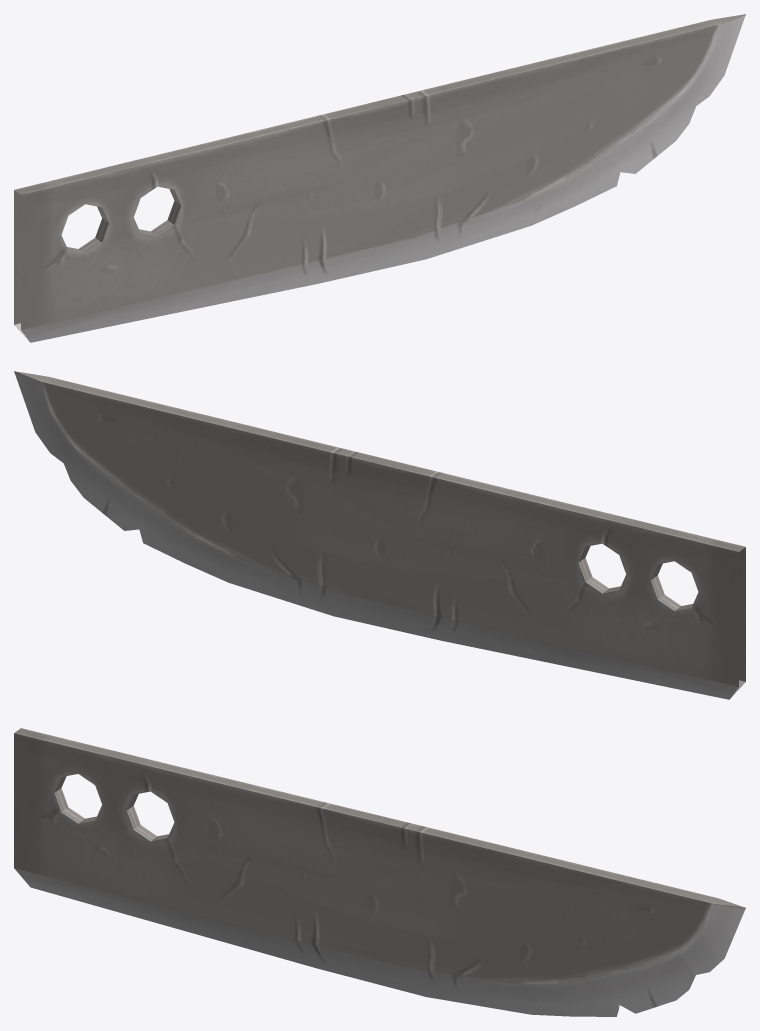
The model's file is chopper1_2.fbx.
3 renders of one model, top to bottom at view 1: azimuth 30°, elevation 25°; view 2: azimuth 150°, elevation 25°; view 3: azimuth 330°, elevation 25°, orthographic.
Visible parts, largest first — view 1: pCube3; view 2: pCube3; view 3: pCube3.
Boxes of the visible parts, x1,y1,x2,y2 form: pCube3: [14, 14, 745, 342]; pCube3: [14, 371, 745, 699]; pCube3: [14, 728, 745, 1016].
Bounding box in the file's own units: 31.77 × 6.97 × 0.5285.
1 material, 1 textured.
